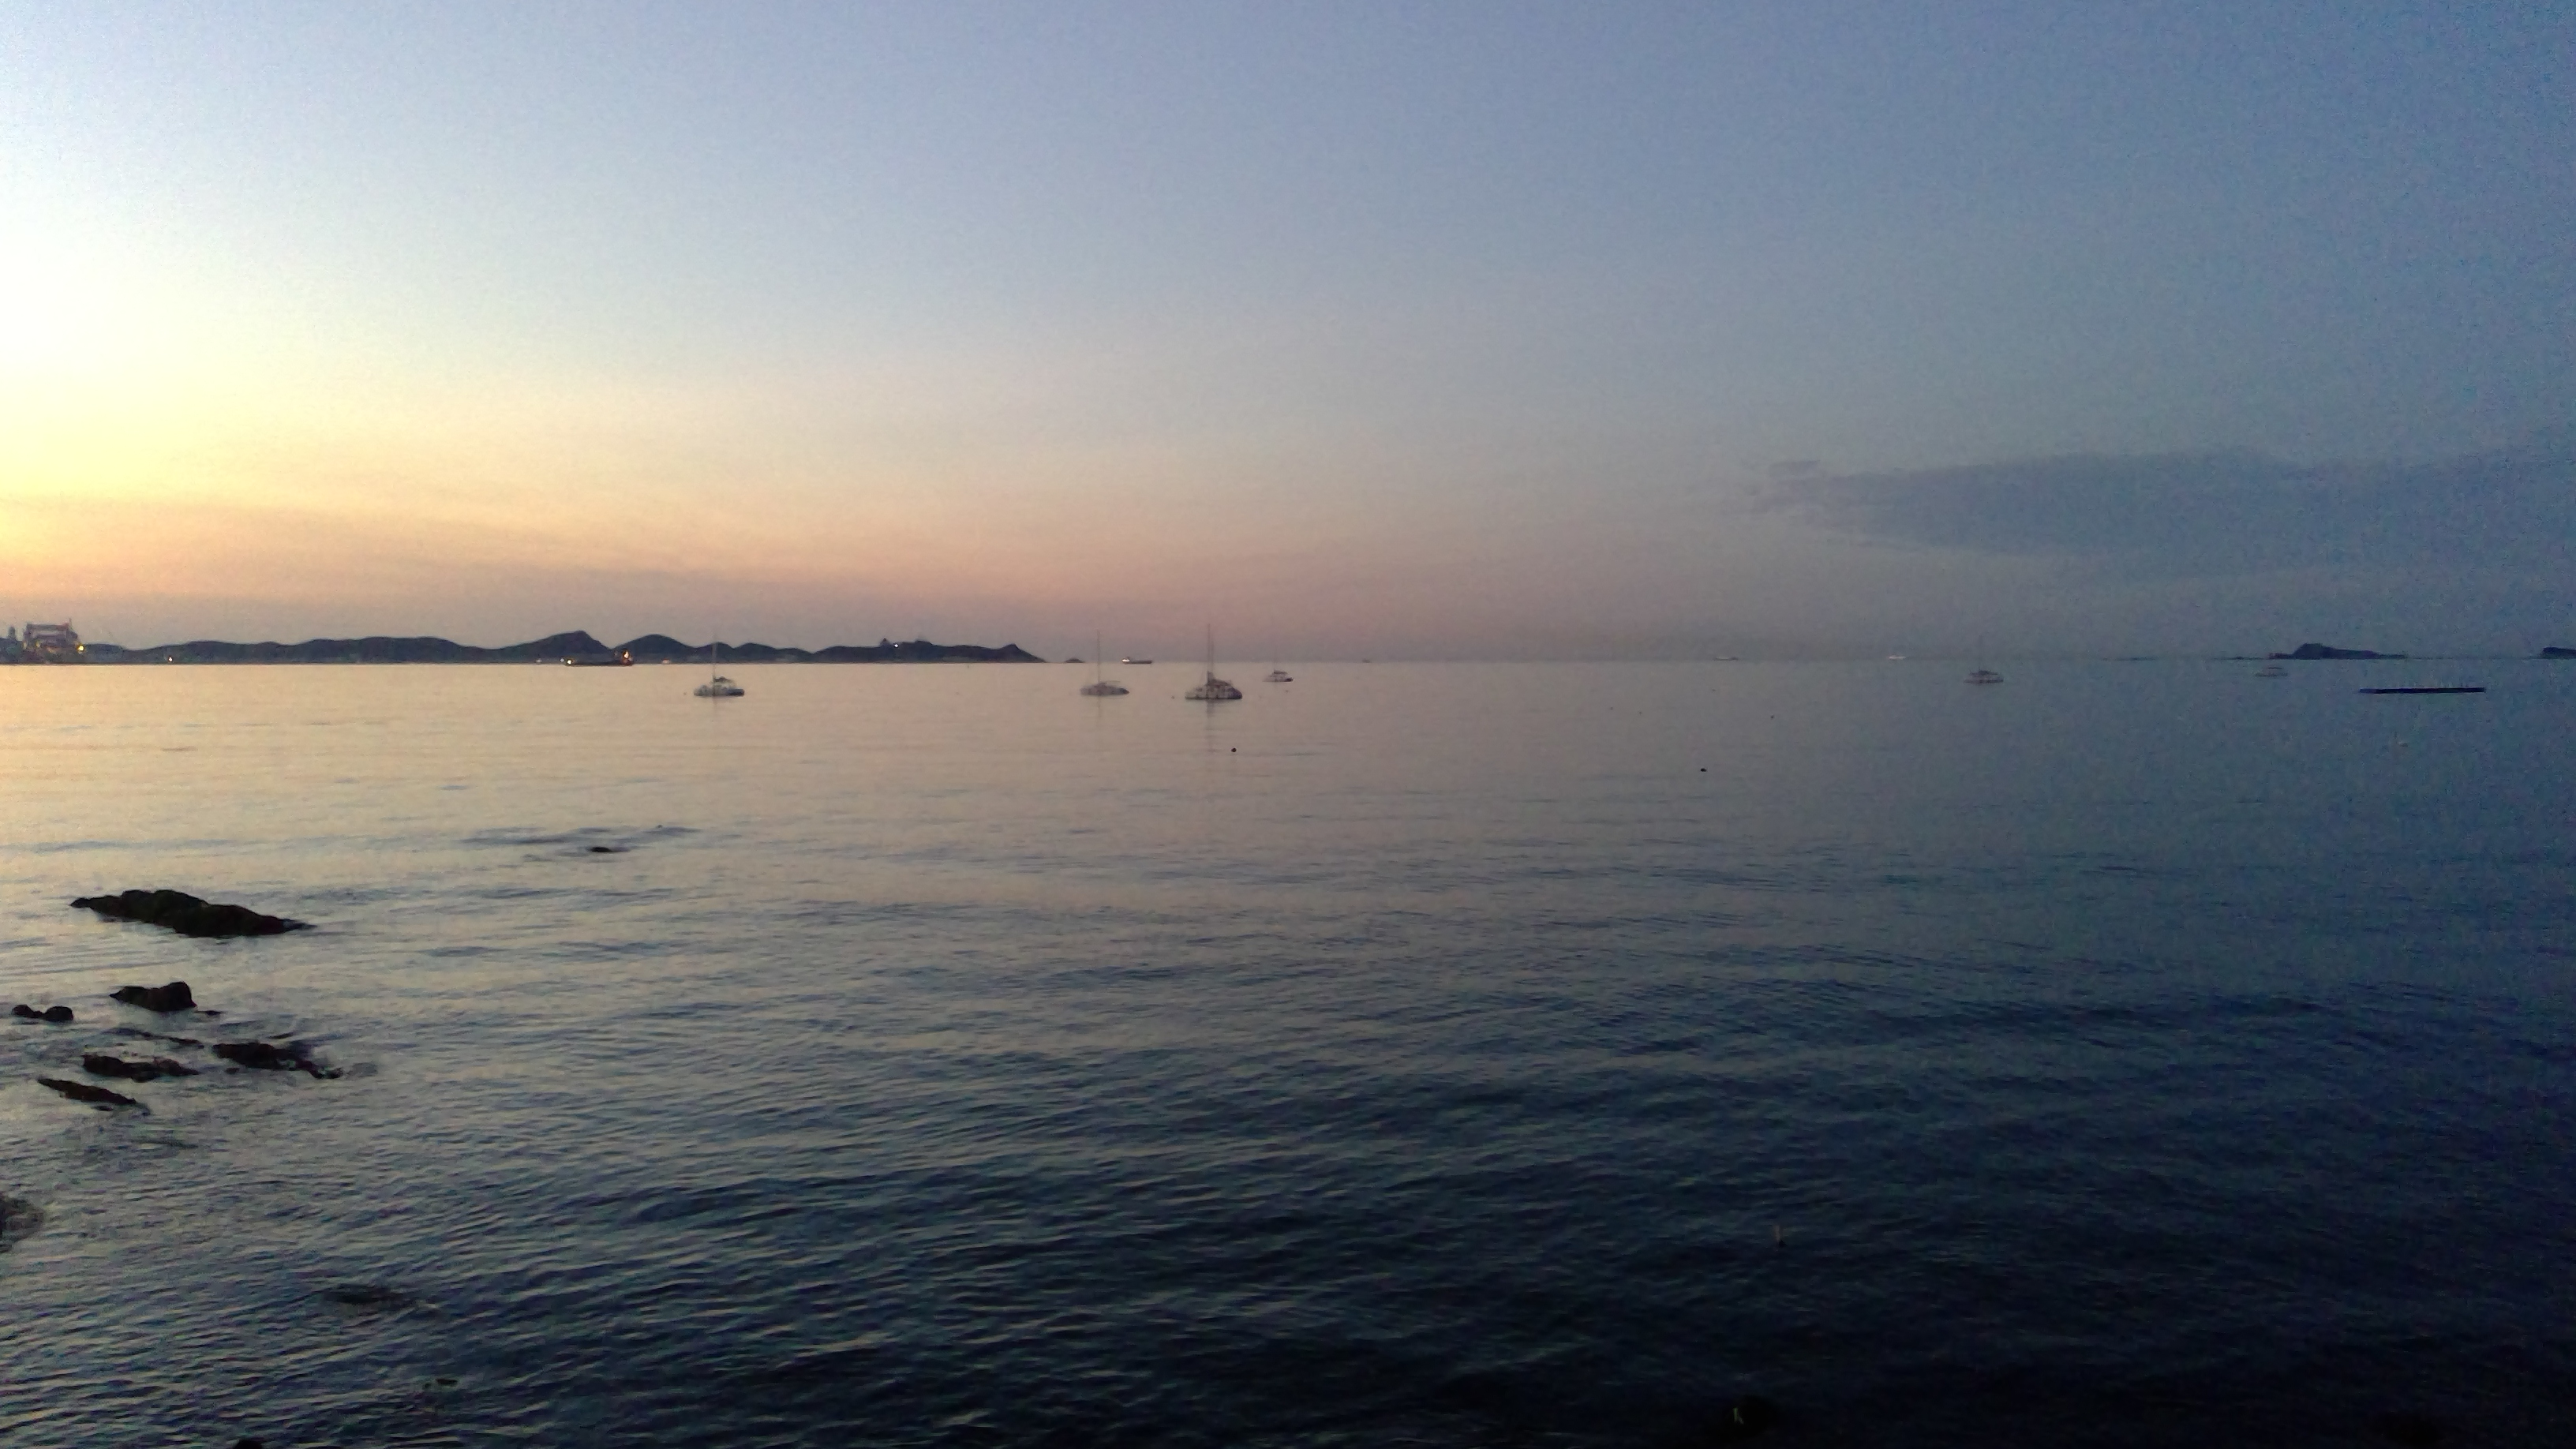boat: (1175, 614, 1240, 718)
rock: (51, 858, 336, 959), (35, 1072, 150, 1141), (106, 957, 209, 1033), (203, 1019, 308, 1092), (85, 1039, 189, 1093), (5, 996, 88, 1046)
